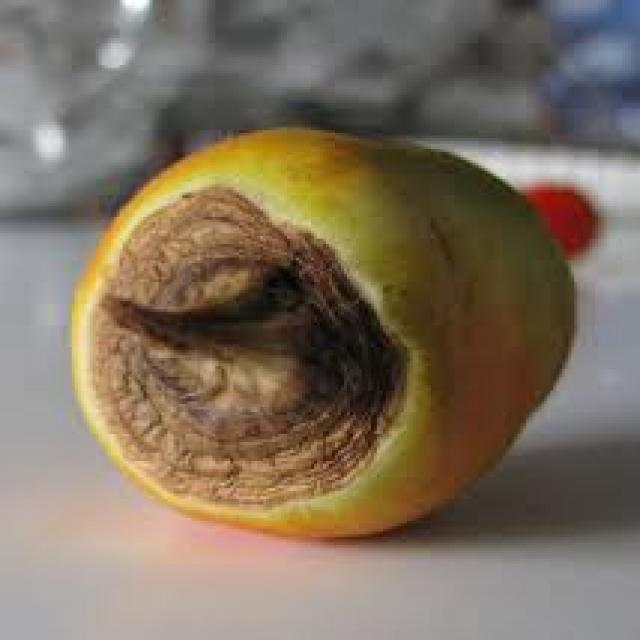organic waste: (66, 122, 574, 534)
